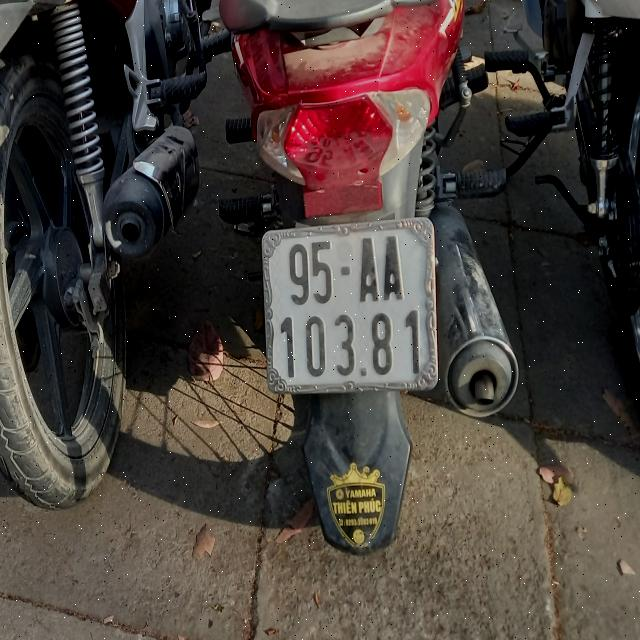0: (303, 314, 327, 376)
1: (403, 309, 426, 373), (279, 316, 297, 378)
3: (333, 314, 355, 376)
5: (312, 241, 332, 304)
8: (371, 312, 393, 377)
9: (290, 243, 309, 307)
A: (384, 235, 404, 304), (360, 237, 380, 301)
